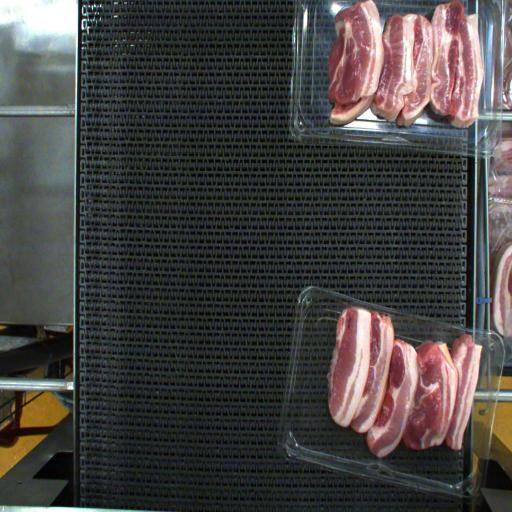packaging-error: (333, 290, 487, 358)
